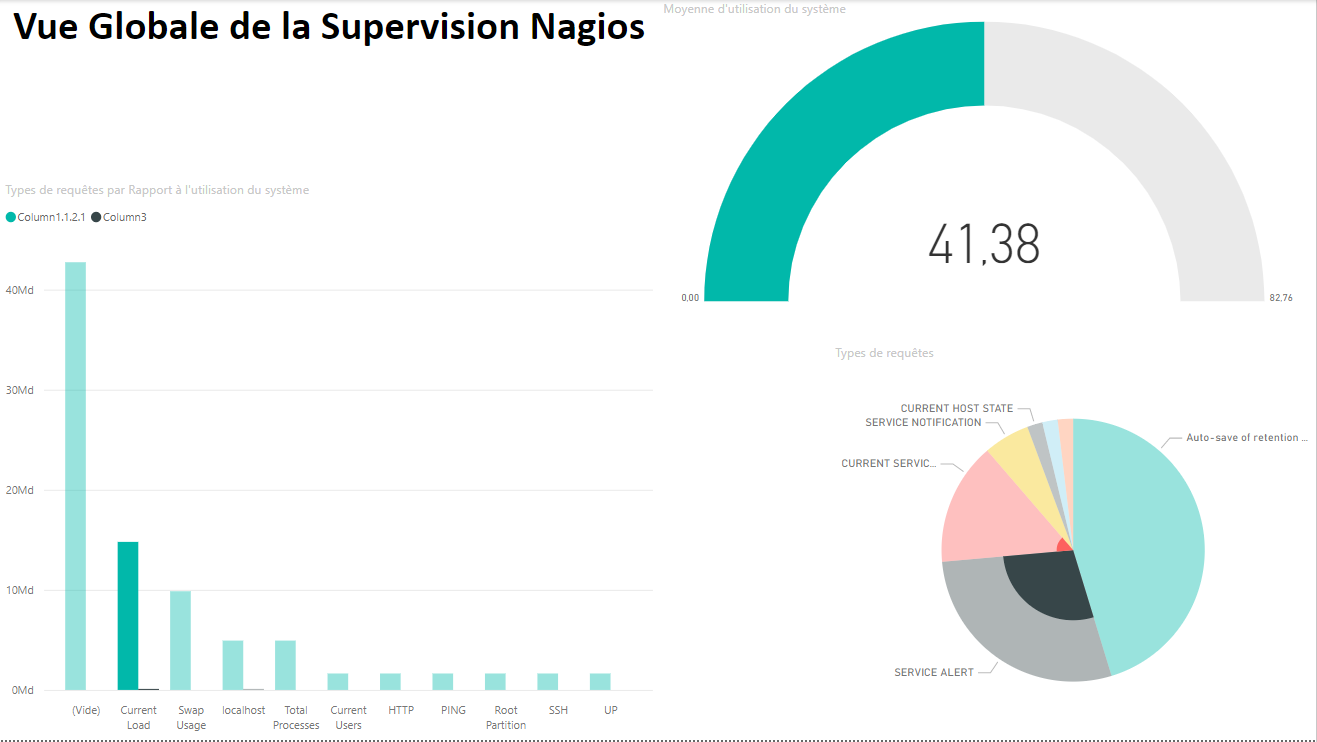

Layout of this report page (visuals, bound fields, positions):
{"tool":"powerbi","page":{"name":"Visualisation Globale","canvas":[1280,720],"ordinal":0},"visuals":[{"type":"pieChart","title":"Types de requêtes","fields":{"Category":["nagios-02-03-2022-00.Column1.1.2.2.1"],"Y":["Sum(nagios-02-03-2022-00.Column1.1.2.1)"]},"box":[807.3,334.6,472.7,385.2],"z":0},{"type":"lineClusteredColumnComboChart","title":"Types de requêtes par Rapport à l''utilisation du système","fields":{"Y":["Sum(nagios-02-03-2022-00.Column1.1.2.1)","Sum(nagios-02-03-2022-00.Column3)"],"Category":["nagios-02-03-2022-00.Column1.2"]},"box":[0,176,640,543.7],"z":1000},{"type":"gauge","title":"Moyenne d''utilisation du système","fields":{"Y":["Sum(nagios-02-03-2022-00.Column3)"]},"box":[640,0,640,303.5],"z":2000},{"type":"textbox","title":"Vue Globale de la Supervision Nagios","box":[0,0,640,176],"z":3000}]}

Visuals, with their boxes in screenshot pixels (x1, y1, x2, y2), scaled from the page's 1280x720 canvas onto the 1317x742 screenshot:
"Types de requêtes" pieChart: [left=831, top=345, right=1316, bottom=741]
"Types de requêtes par Rapport à l''utilisation du système" lineClusteredColumnComboChart: [left=0, top=181, right=658, bottom=741]
"Moyenne d''utilisation du système" gauge: [left=658, top=0, right=1316, bottom=313]
"Vue Globale de la Supervision Nagios" textbox: [left=0, top=0, right=658, bottom=181]
